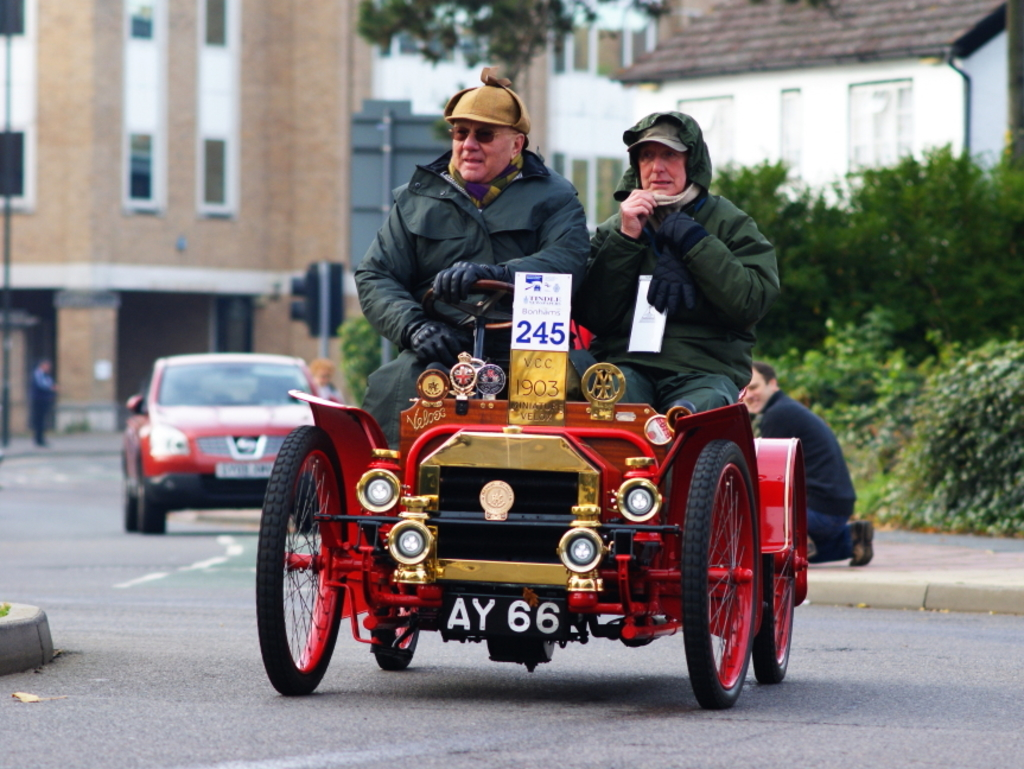Car: (252, 277, 810, 712), (115, 357, 314, 543)
